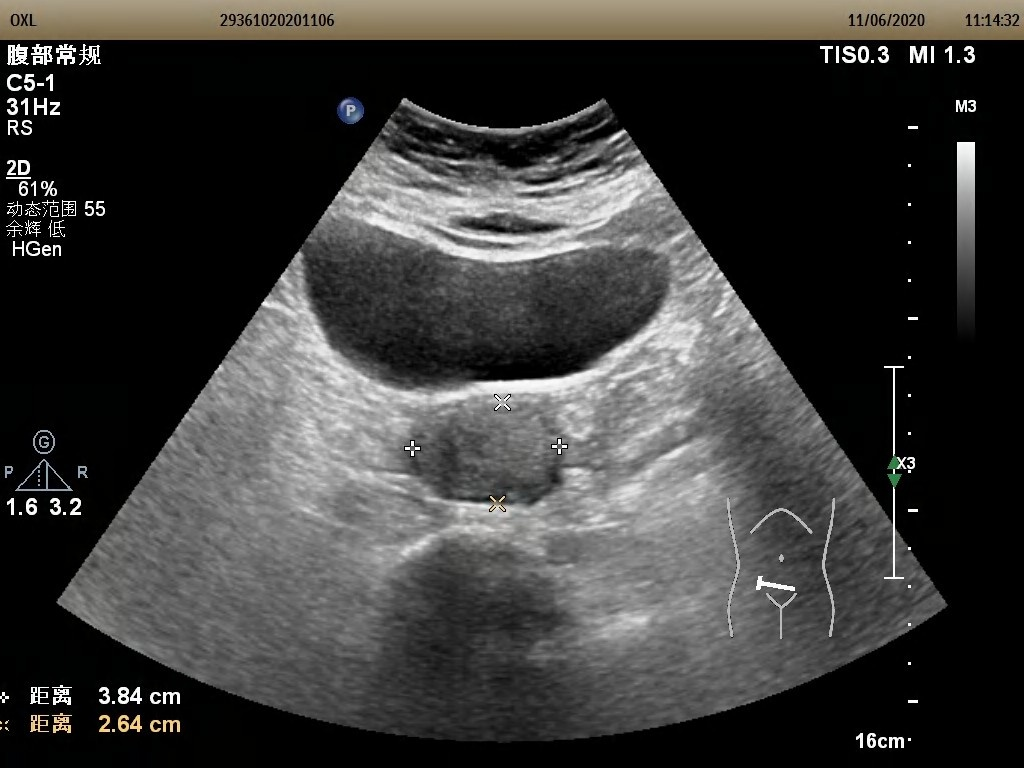肌瘤: (407, 398, 564, 507)
